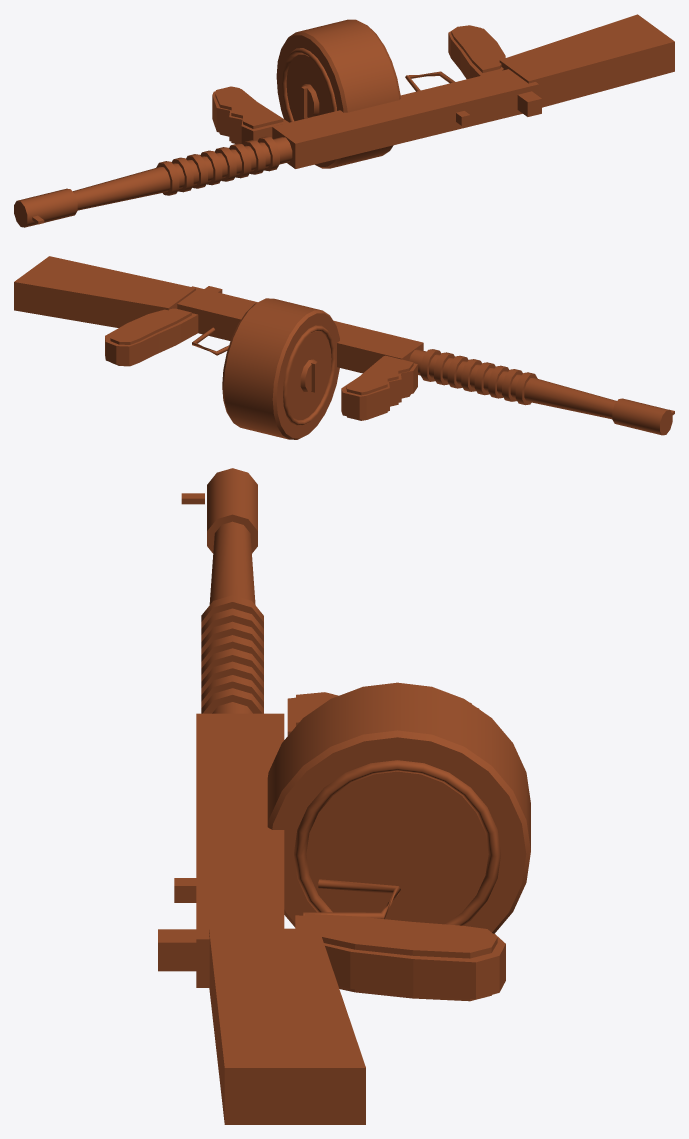
Rendered from thompson_m1928.obj.
3 views of the same model, one above another, from view 1: azimuth 30°, elevation 25°; view 2: azimuth 150°, elevation 25°; view 3: azimuth 270°, elevation 25° (orthographic). The views are drawn at different scales.
Visible parts, largest first — view 1: barrel_0; view 2: barrel_0; view 3: barrel_0.
Boxes of the visible parts, box(x1,y1,x2,y2) form: barrel_0: box(14, 14, 674, 227); barrel_0: box(14, 256, 674, 439); barrel_0: box(158, 468, 530, 1124).
Size of the model in its own units: 0.91 by 0.17 by 0.2375.
